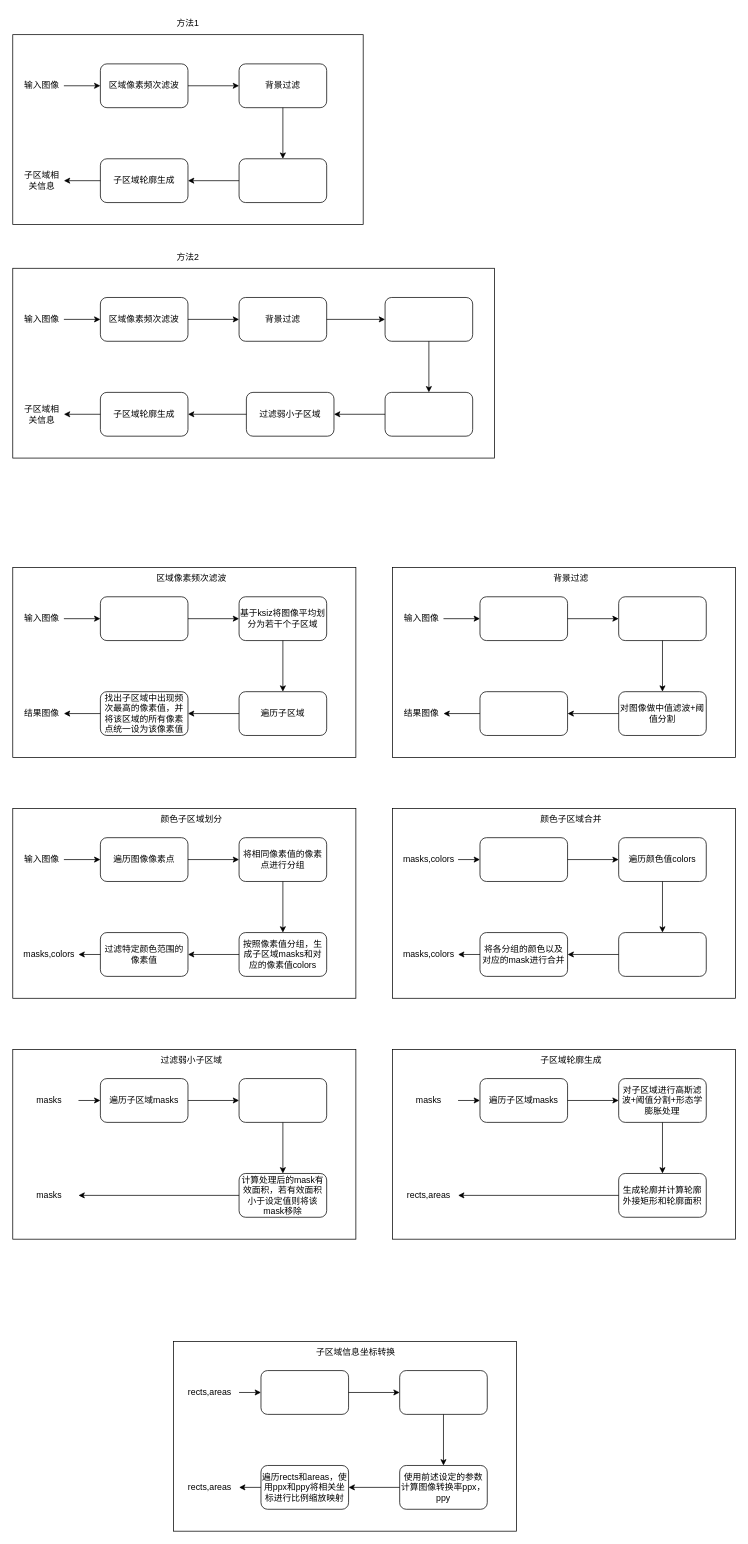
Some shapes in this 748 by 1544 pixel diagram are drawn without their labels. Here are the shapes that lost their labels. From the top down, the box of each, then its label:
(238, 158, 327, 203): 滤波处理+阈值分割+形态学腐蚀处理
(384, 297, 473, 341): 颜色区域划分
(384, 392, 473, 436): 合并颜色相近子区域
(100, 596, 188, 641): 设定区域窗口大小ksize
(479, 596, 568, 641): 设定待过滤的像素值范围
(618, 596, 706, 641): 遍历图像将像素值介于过滤范围的像素点设置为[0,0,0]
(479, 691, 568, 735): 生成轮廓，找出弱小子轮廓，并将该轮廓区域像素点设为[0,0,0]
(479, 837, 568, 881): 通过颜色值偏移 offset 和颜色值区间设置匹配条件
(618, 932, 706, 976): 将能够匹配的颜色组成一组，不能匹配的颜色独成一组
(238, 1078, 327, 1122): 对子区域进行高斯滤波+阈值分割+形态学腐蚀处理
(260, 1370, 349, 1414): 选择两个图像坐标点points设定图像的有效图像范围
(399, 1370, 487, 1414): 设定图像真实业务场景下的有效宽度width和有效高度height
